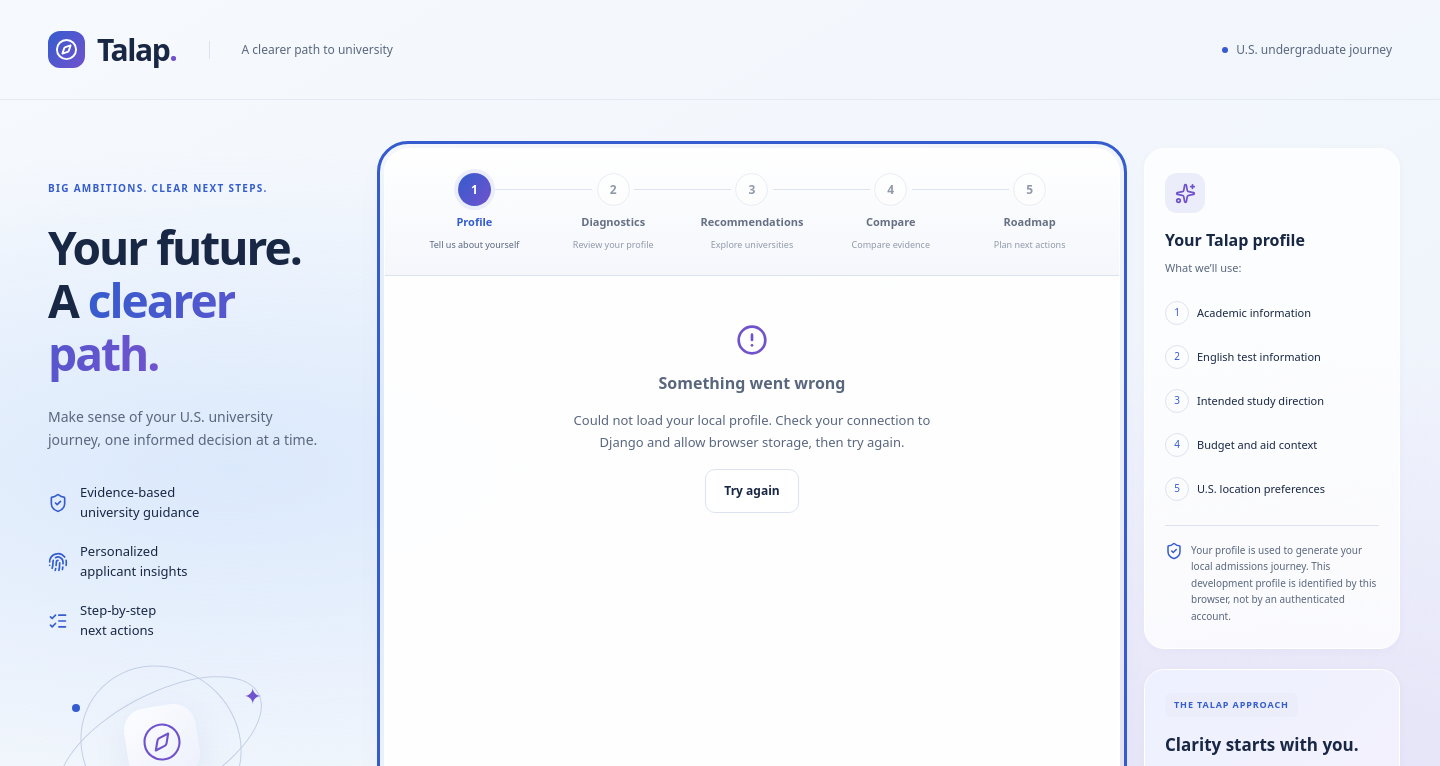
working profile › shows a load error for generic 404 and retries without overwriting identity
The image size is (1440, 766).
Expected: the message shows "Could not load", [574,412,930,451]
Click the button "Try again" at {"x": 752, "y": 491}, box [705,469,799,513]
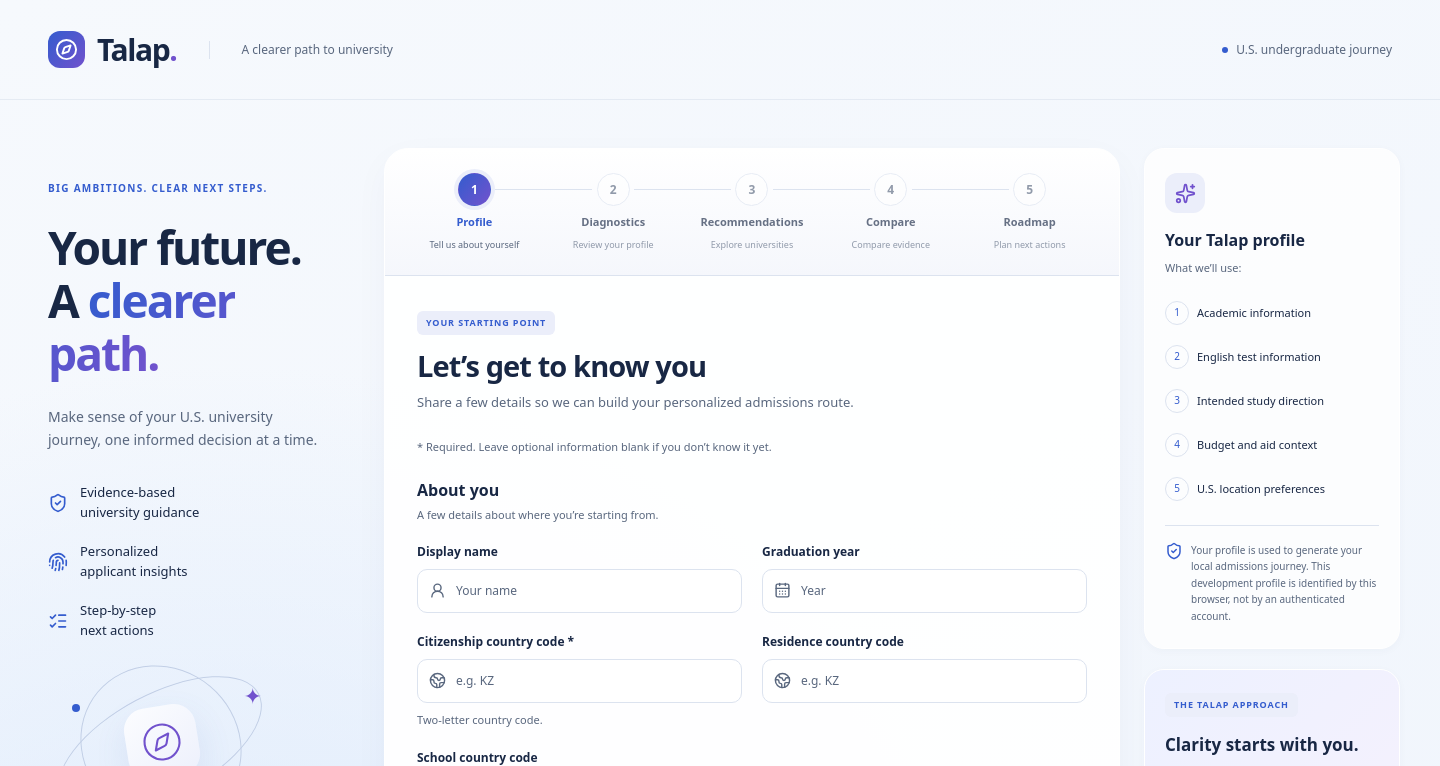
Now the field labelled "Display name" is shown, box [417,569,742,613]
